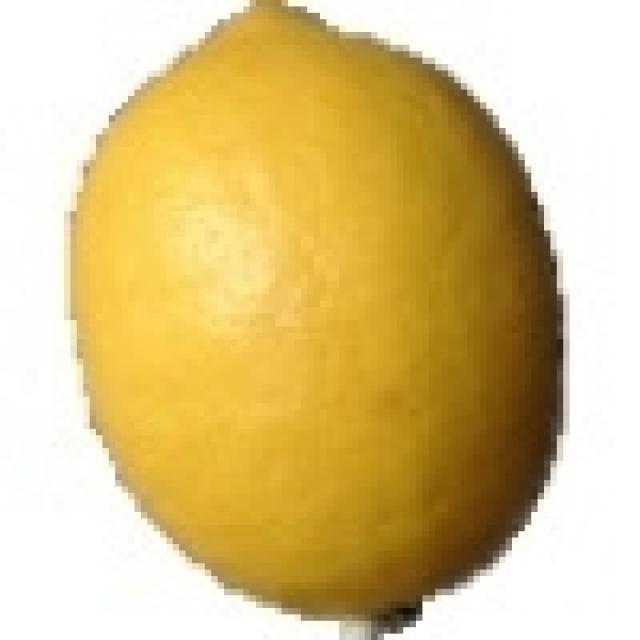lemon: (71, 0, 556, 627)
